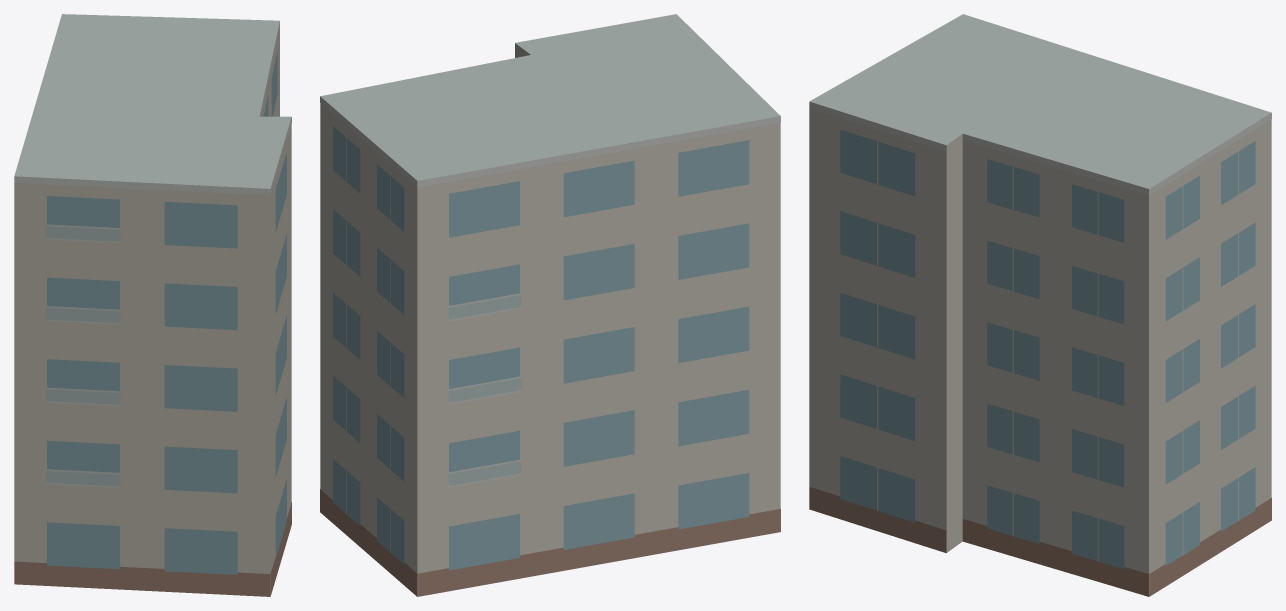
The model's file is survey-upis-32701425.glb.
3 renders of one model, left to right at view 1: azimuth 30°, elevation 25°; view 2: azimuth 150°, elevation 25°; view 3: azimuth 270°, elevation 25°, orthographic.
Parts seen in each view (by area): view 1: survey-upis-32701425.tmp; view 2: survey-upis-32701425.tmp; view 3: survey-upis-32701425.tmp.
Part boxes in pixels (bbox=[...]): survey-upis-32701425.tmp: bbox=[14, 14, 291, 596]; survey-upis-32701425.tmp: bbox=[320, 14, 780, 596]; survey-upis-32701425.tmp: bbox=[809, 14, 1271, 596].
Size of the model in its own units: 14.04 by 15.25 by 15.68.
